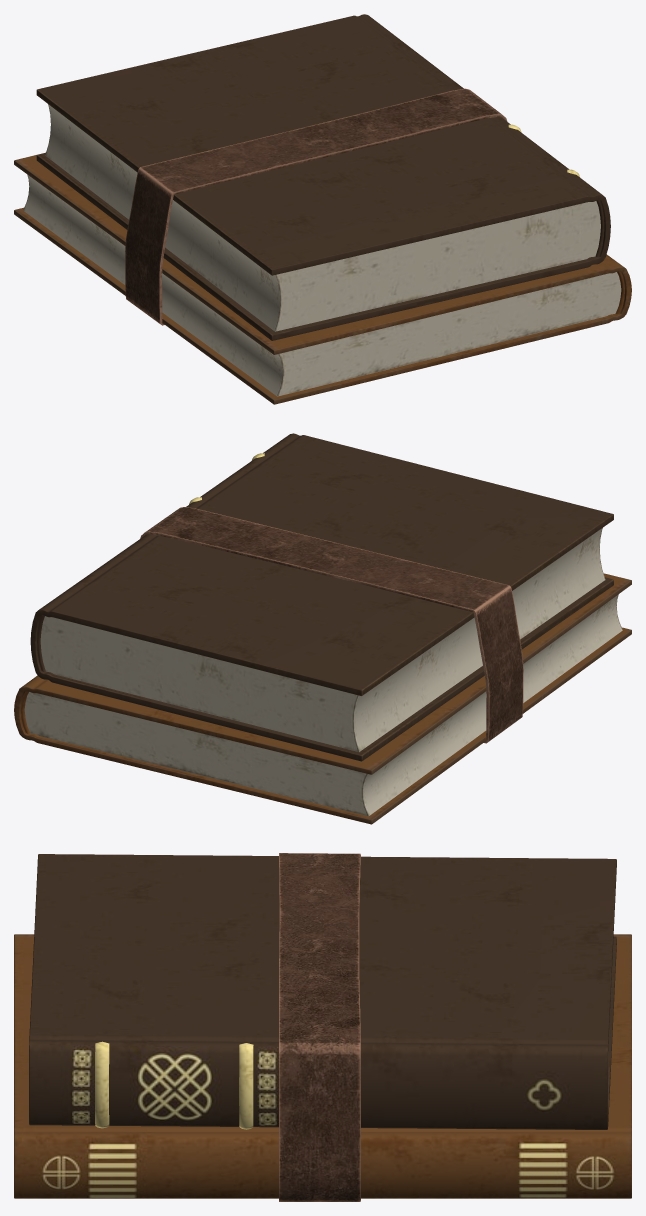
File: textured_books_1k.glb
The picture shows the model from 3 angles, top to bottom: view 1: azimuth 30°, elevation 25°; view 2: azimuth 150°, elevation 25°; view 3: azimuth 270°, elevation 25°; orthographic projection. The views are drawn at different scales.
Parts seen in each view (by area): view 1: books_geo, strap_geo; view 2: books_geo, strap_geo; view 3: books_geo, strap_geo.
Boxes of the visible parts, <box> form: books_geo: <box>14,14,631,404</box>; strap_geo: <box>125,88,507,325</box>; books_geo: <box>14,433,631,824</box>; strap_geo: <box>140,507,523,743</box>; books_geo: <box>14,854,631,1198</box>; strap_geo: <box>279,853,360,1201</box>.
Size of the model in its own units: 21.63 by 7.44 by 26.83.
3 materials, 3 textured.
